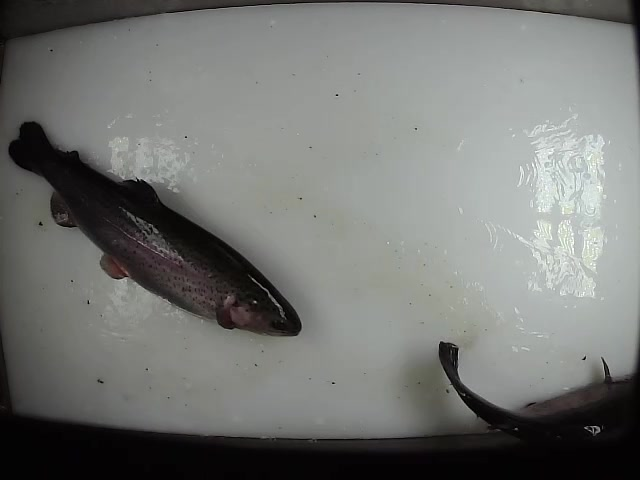fish: (1, 118, 305, 340), (432, 340, 640, 443)
